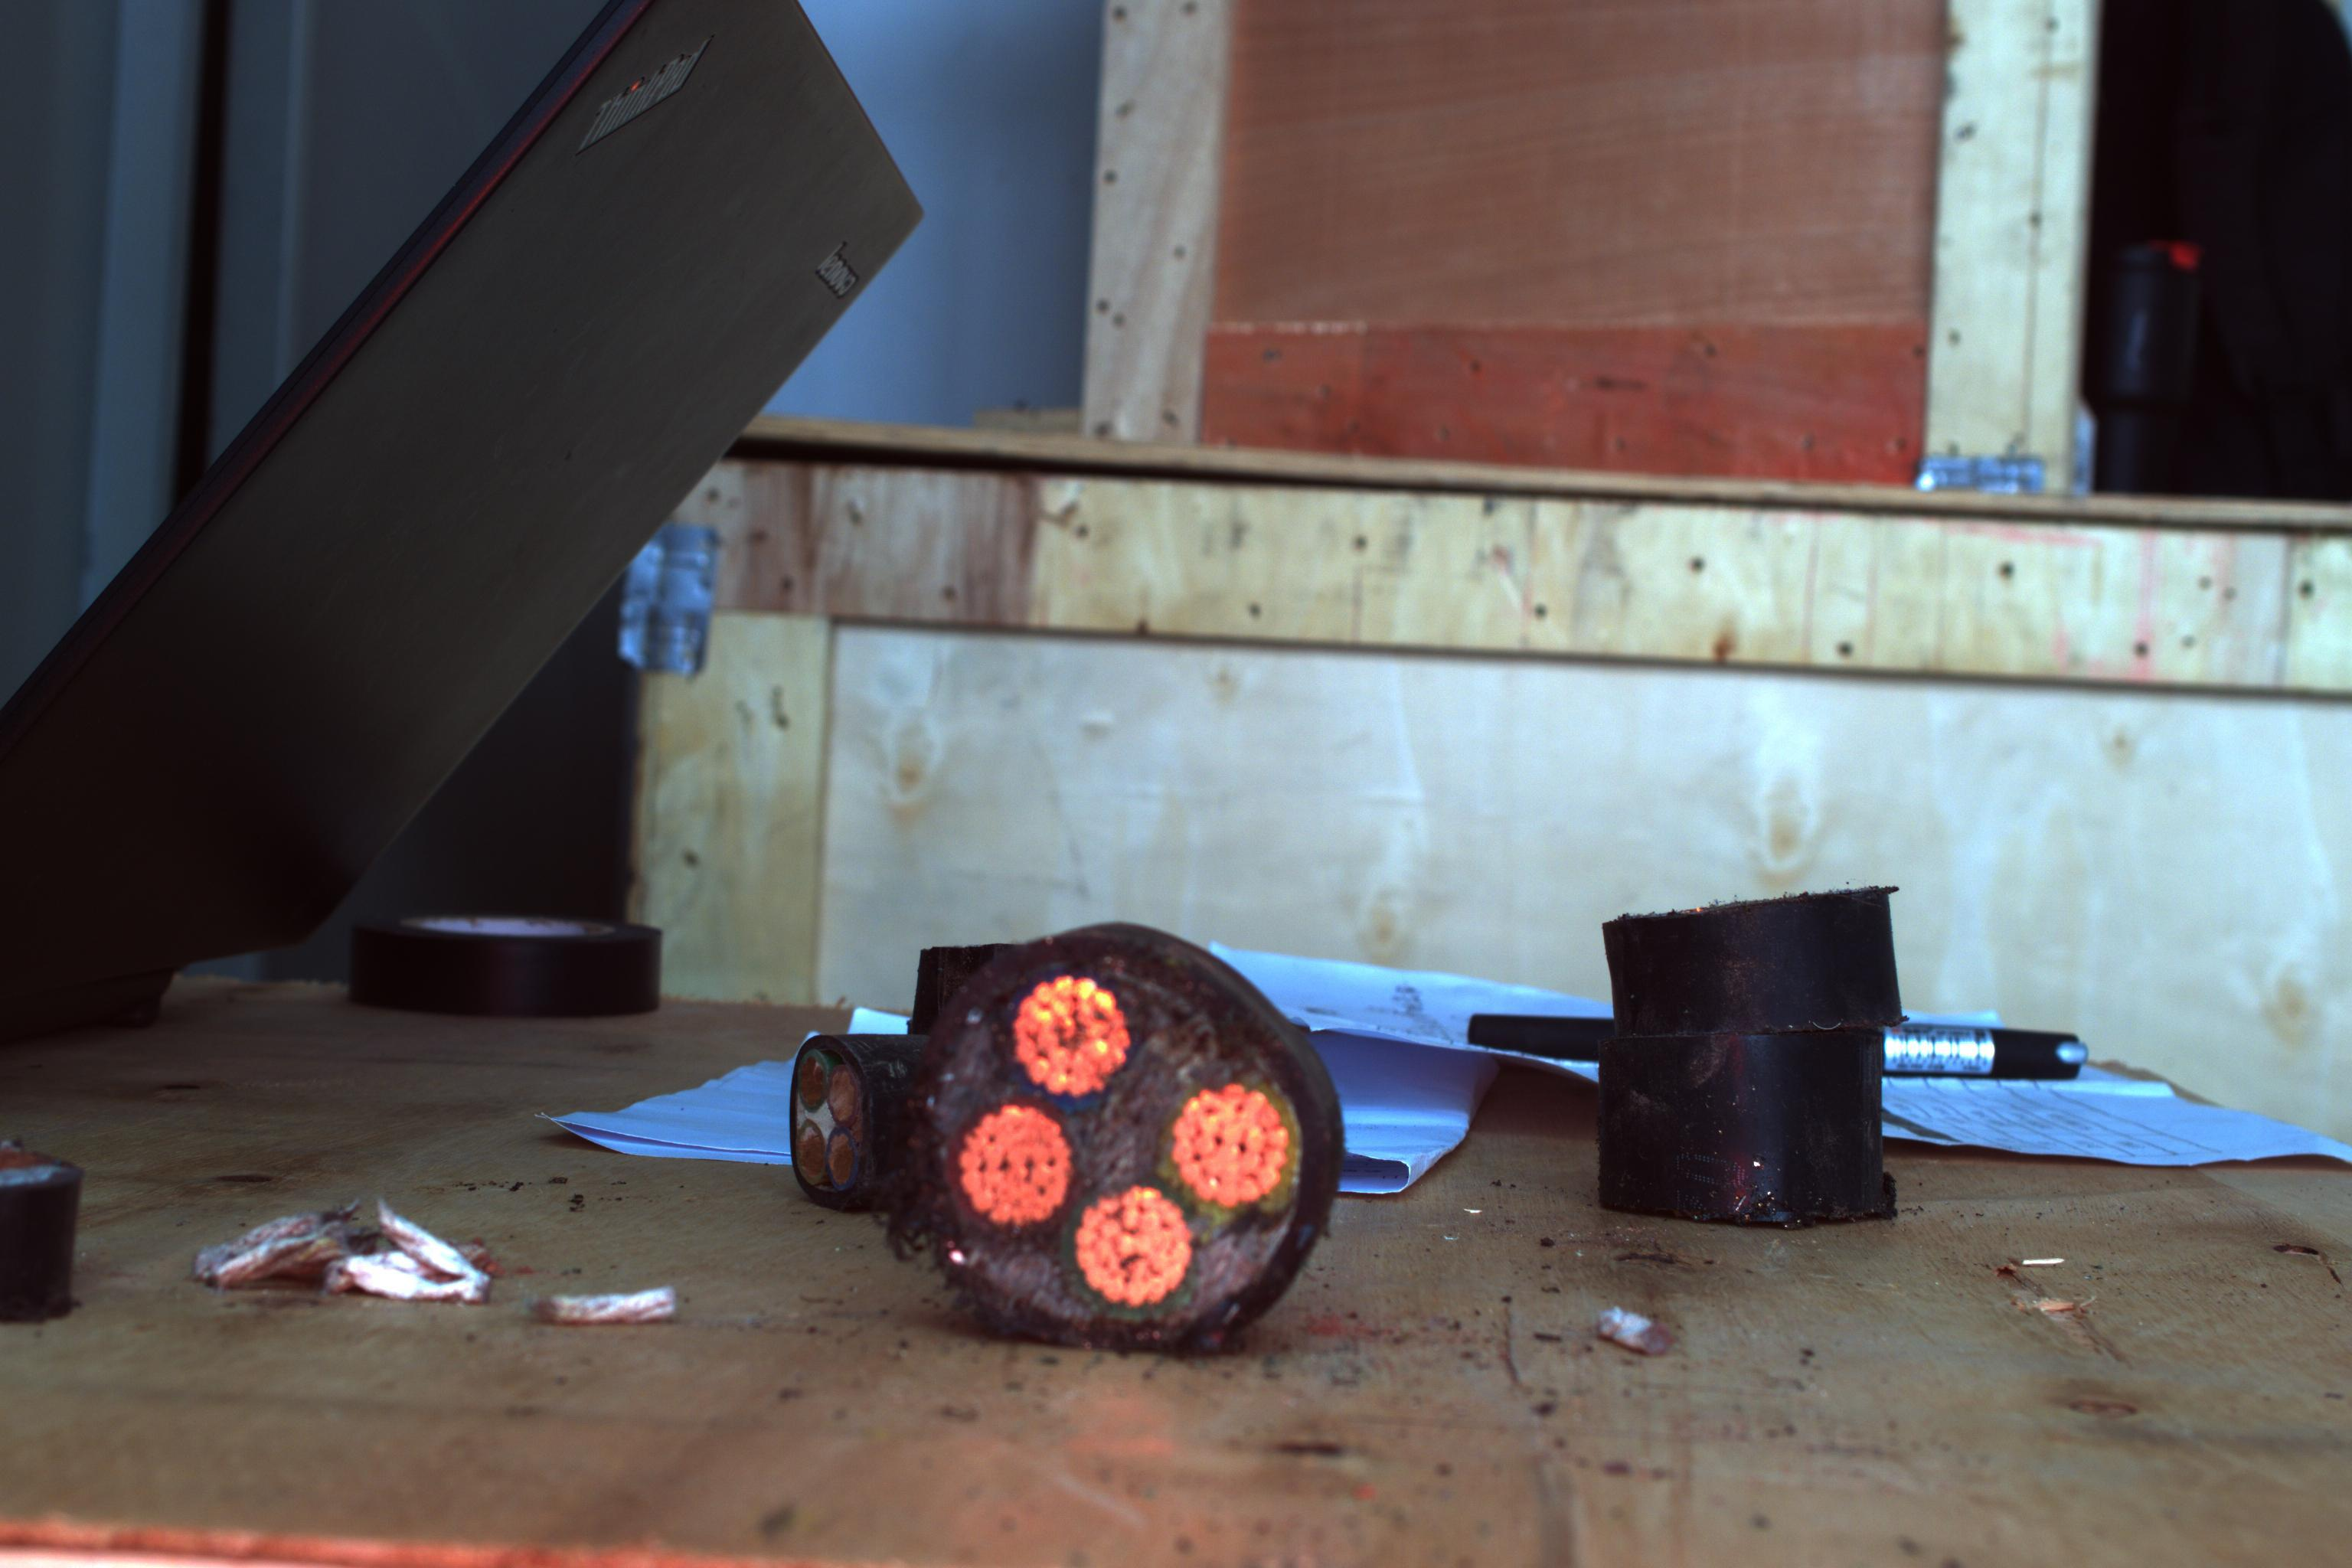YJV_0.6_1kV_4x120: (915, 948, 1335, 1332)
